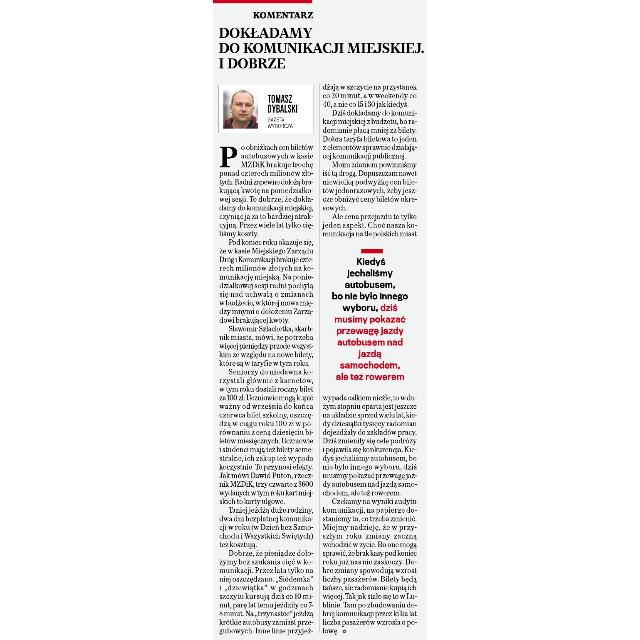author: (264, 92, 302, 114)
body: (215, 141, 315, 637), (321, 392, 419, 636), (320, 82, 420, 240), (328, 246, 412, 386)
title: (216, 5, 427, 72)
